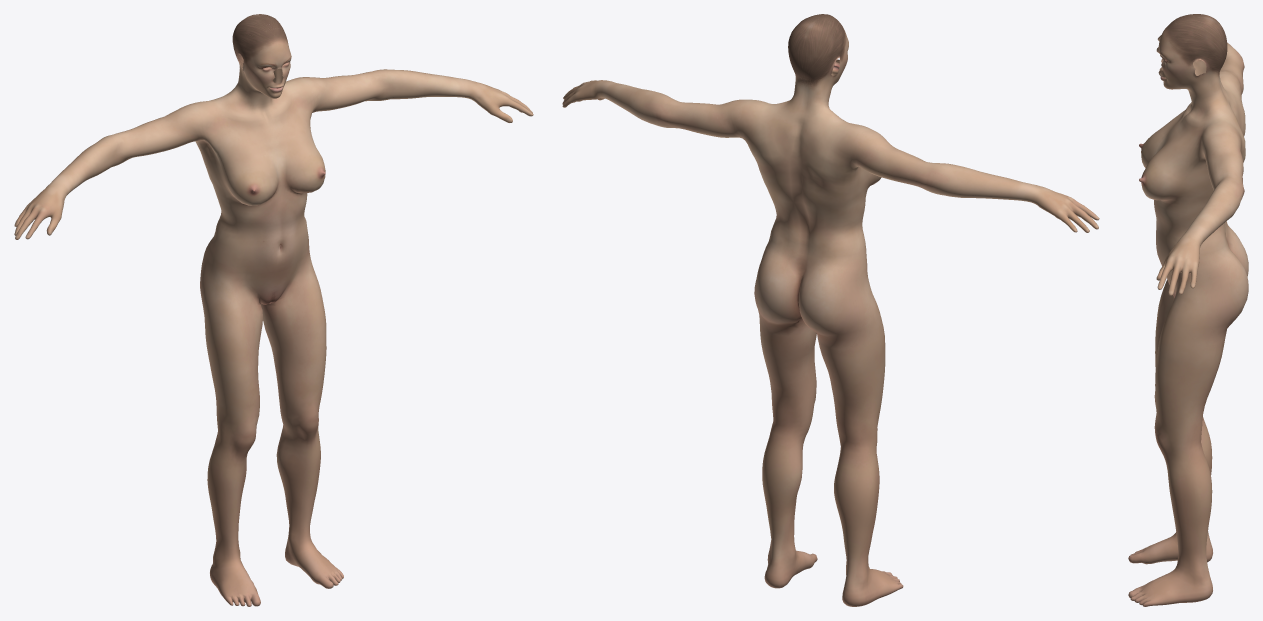
File: 女性_外皮系统_皮肤.fbx
The picture shows the model from 3 angles, left to right: view 1: azimuth 30°, elevation 25°; view 2: azimuth 150°, elevation 25°; view 3: azimuth 270°, elevation 25°; orthographic projection. The views are drawn at different scales.
Parts seen in each view (by area): view 1: 女性_外皮系统_皮肤; view 2: 女性_外皮系统_皮肤; view 3: 女性_外皮系统_皮肤.
Boxes of the visible parts, x1=… form: 女性_外皮系统_皮肤: x1=14, y1=14, x2=533, y2=606; 女性_外皮系统_皮肤: x1=562, y1=14, x2=1099, y2=606; 女性_外皮系统_皮肤: x1=1128, y1=14, x2=1248, y2=606.
Bounding box in the file's own units: 173 × 178 × 34.49.
